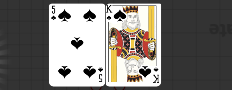5C: (51, 5, 58, 22)
